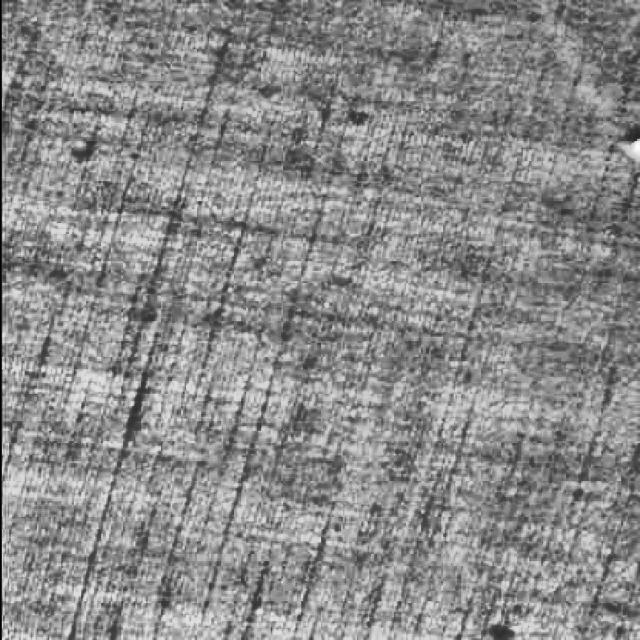hole: (620, 124, 640, 171)
